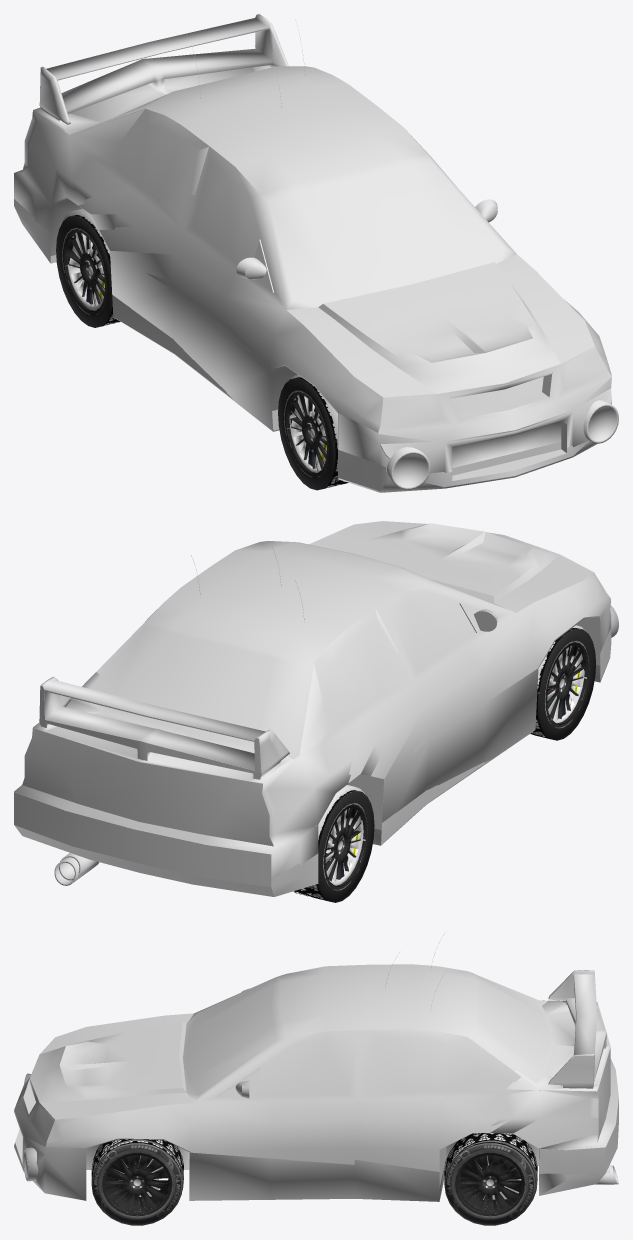
The model's file is low poly lance evo.fbx.
3 renders of one model, top to bottom at view 1: azimuth 30°, elevation 25°; view 2: azimuth 150°, elevation 25°; view 3: azimuth 270°, elevation 25°, orthographic. The views are drawn at different scales.
Parts seen in each view (by area): view 1: Mitsubishi.Body, Mitsubishi.Body.001, Mitsubishi.Wheel.Ft.R.001, Mitsubishi.Wheel.Bk.R.001, Circle.004, Circle.006, Mitsubishi.Body.003, Mitsubishi.Wheel.Bk.R, Mitsubishi.Wheel.Ft.R; view 2: Mitsubishi.Body, Mitsubishi.Body.001, Mitsubishi.Wheel.Ft.R.001, Mitsubishi.Wheel.Bk.R.001, Mitsubishi.Wheel.Bk.R, Mitsubishi.Body.003, Circle.001, Mitsubishi.Wheel.Ft.R; view 3: Mitsubishi.Body, Mitsubishi.Body.001, Mitsubishi.Wheel.Ft.L.001, Mitsubishi.Wheel.Bk.L.001, Mitsubishi.Wheel.Bk.L, Mitsubishi.Wheel.Ft.L, Mitsubishi.Body.002, Circle.006.
Boxes of the visible parts, x1,y1,x2,y2 form: Mitsubishi.Body: (14,29,611,491); Mitsubishi.Body.001: (14,14,611,492); Mitsubishi.Wheel.Ft.R.001: (278,377,348,490); Mitsubishi.Wheel.Bk.R.001: (56,215,120,327); Circle.004: (387,447,430,489); Circle.006: (583,400,618,443); Mitsubishi.Body.003: (236,239,273,292); Mitsubishi.Wheel.Bk.R: (60,208,110,310); Mitsubishi.Wheel.Ft.R: (289,375,337,472); Mitsubishi.Body: (14,521,611,896); Mitsubishi.Body.001: (14,600,611,879); Mitsubishi.Wheel.Ft.R.001: (530,627,595,740); Mitsubishi.Wheel.Bk.R.001: (294,790,374,902); Mitsubishi.Wheel.Bk.R: (318,785,364,885); Mitsubishi.Body.003: (459,603,499,632); Circle.001: (59,853,98,880); Mitsubishi.Wheel.Ft.R: (537,625,586,723); Mitsubishi.Body: (14,964,618,1195); Mitsubishi.Body.001: (14,970,618,1201); Mitsubishi.Wheel.Ft.L.001: (91,1141,182,1225); Mitsubishi.Wheel.Bk.L.001: (444,1142,535,1225); Mitsubishi.Wheel.Bk.L: (454,1133,537,1212); Mitsubishi.Wheel.Ft.L: (93,1139,183,1211); Mitsubishi.Body.002: (217,1068,260,1098); Circle.006: (23,1147,38,1181).
Bounding box in the file's own units: 243 × 236 × 583.
